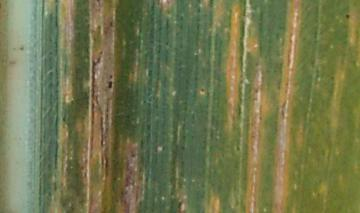tarspot: (107, 19, 115, 26), (108, 81, 113, 89), (198, 87, 204, 92), (344, 13, 350, 18), (130, 153, 136, 158), (109, 73, 113, 79), (19, 46, 25, 50)
